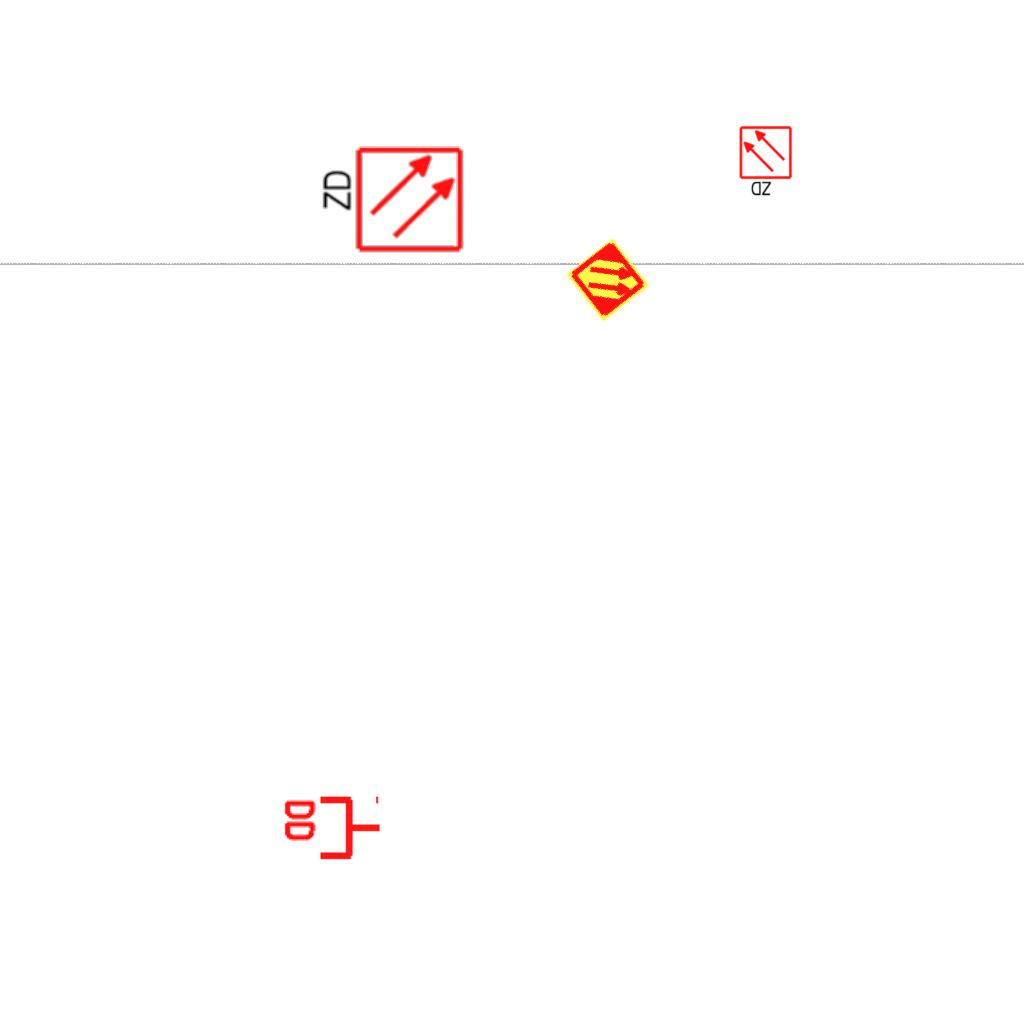ASR_Ansaugrauchmelder: (564, 236, 652, 324)
Datenanschluss_zweifach: (280, 795, 383, 864)
ZD_Melder_in_Zwischendecke_mit_Revisionsoeffnung_mind_40_x_40_cm: (316, 144, 465, 258), (738, 125, 795, 199)
